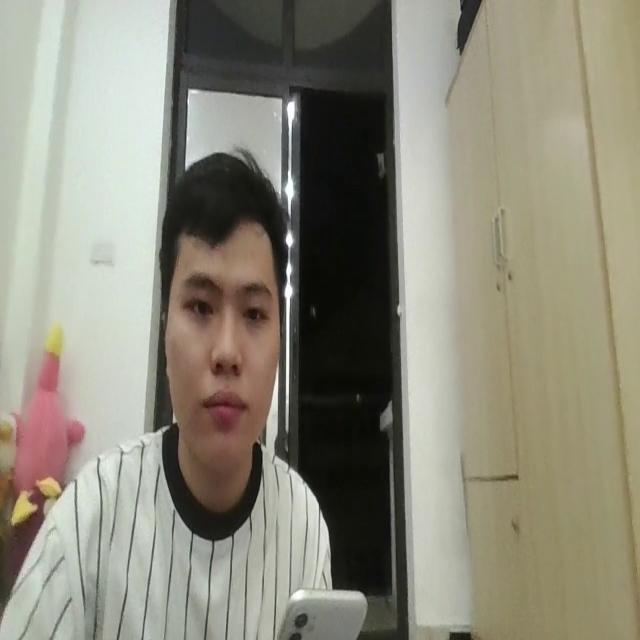phone: (281, 572, 366, 640)
student: (0, 144, 331, 640)
